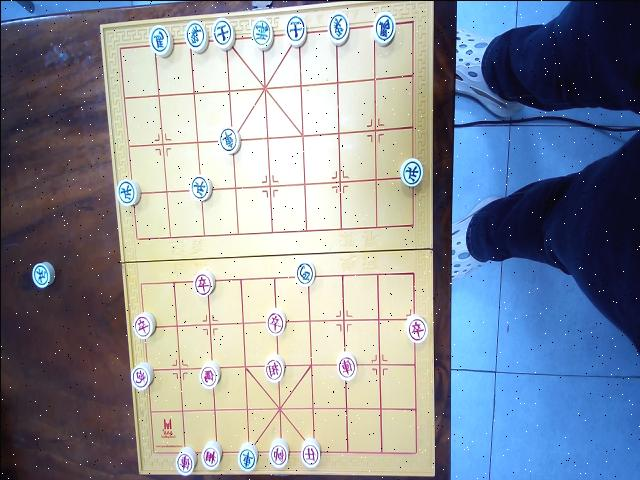piece: (212, 17, 235, 50), (185, 19, 208, 52), (373, 11, 395, 45), (149, 25, 173, 56), (251, 17, 273, 50), (328, 11, 349, 44), (400, 157, 423, 186), (286, 14, 306, 46), (406, 313, 428, 342), (116, 179, 140, 205), (131, 361, 153, 389), (175, 446, 196, 475), (201, 439, 221, 469), (32, 261, 55, 287), (133, 311, 155, 338), (193, 269, 215, 296), (199, 360, 220, 388), (264, 353, 284, 382), (190, 174, 212, 200), (301, 437, 320, 467), (269, 437, 288, 467), (219, 127, 240, 154), (266, 307, 286, 335), (337, 351, 356, 380), (238, 441, 257, 470), (295, 261, 315, 286)
